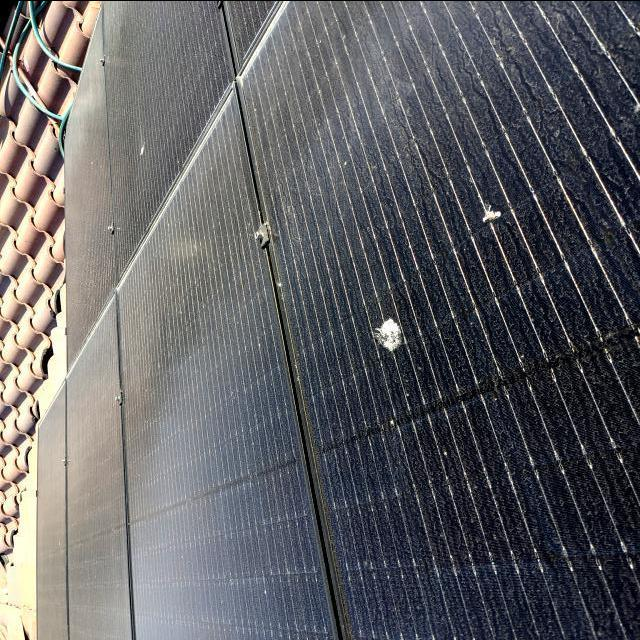soiled: (244, 0, 640, 612), (111, 0, 232, 272)
